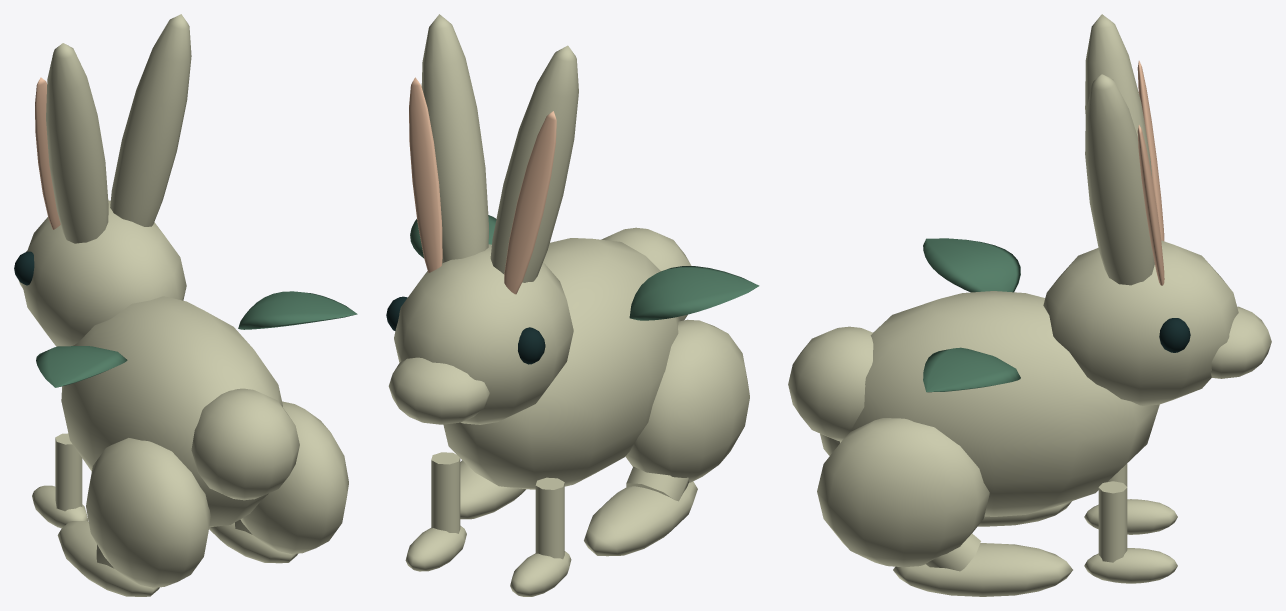
The model's file is fern-hopper.glb.
The picture shows the model from 3 angles, left to right: view 1: azimuth 30°, elevation 25°; view 2: azimuth 150°, elevation 25°; view 3: azimuth 270°, elevation 25°; orthographic projection. The views are drawn at different scales.
Visible parts, largest first — view 1: head, body, leg-2, leg-3, ruff, leg-0, ear-markings, eyes; view 2: head, body, leg-2, ear-markings, ruff, leg-1, leg-0, leg-3, eyes; view 3: body, head, leg-3, ruff, leg-1, ear-markings, leg-0, leg-2, eyes.
Boxes of the visible parts, bbox=[...] form: head: bbox=[19, 14, 191, 346]; body: bbox=[61, 296, 299, 527]; leg-2: bbox=[57, 438, 210, 596]; leg-3: bbox=[209, 401, 348, 563]; ruff: bbox=[36, 291, 357, 387]; leg-0: bbox=[32, 433, 88, 528]; ear-markings: bbox=[35, 77, 60, 229]; eyes: bbox=[14, 251, 34, 285]; head: bbox=[388, 14, 578, 424]; body: bbox=[443, 227, 691, 489]; leg-2: bbox=[584, 319, 749, 556]; ear-markings: bbox=[409, 77, 556, 294]; ruff: bbox=[410, 215, 759, 320]; leg-1: bbox=[405, 452, 466, 571]; leg-0: bbox=[510, 477, 571, 596]; leg-3: bbox=[460, 460, 525, 519]; eyes: bbox=[386, 296, 545, 364]; body: bbox=[788, 291, 1159, 516]; head: bbox=[1043, 14, 1271, 405]; leg-3: bbox=[817, 418, 1072, 596]; ruff: bbox=[923, 238, 1020, 392]; leg-1: bbox=[1084, 481, 1177, 583]; ear-markings: bbox=[1137, 60, 1164, 285]; leg-0: bbox=[1084, 463, 1177, 534]; leg-2: bbox=[820, 433, 1071, 526]; eyes: bbox=[1159, 318, 1190, 352].
Bounding box in the file's own units: 1.01 × 1.57 × 1.34.
